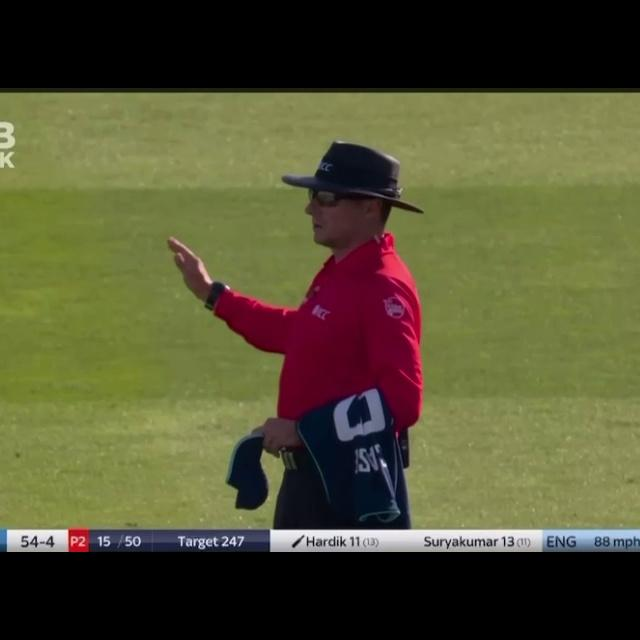umpire: (159, 115, 434, 532)
